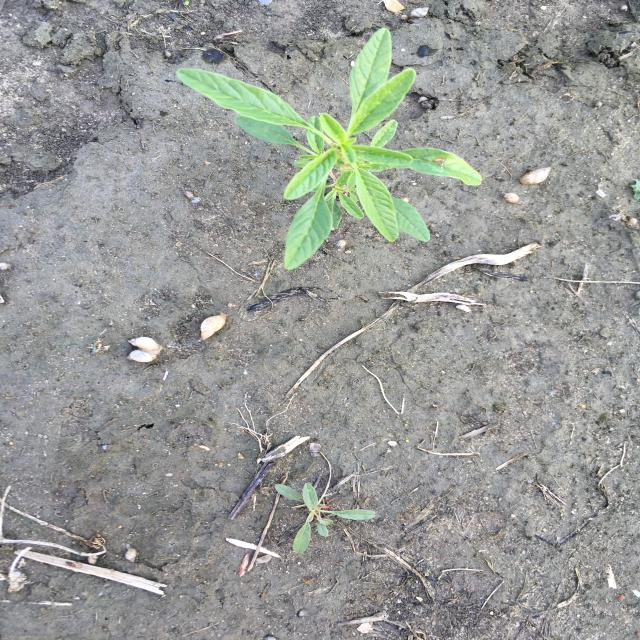Waterhemp: (173, 27, 485, 272), (270, 481, 382, 555)
